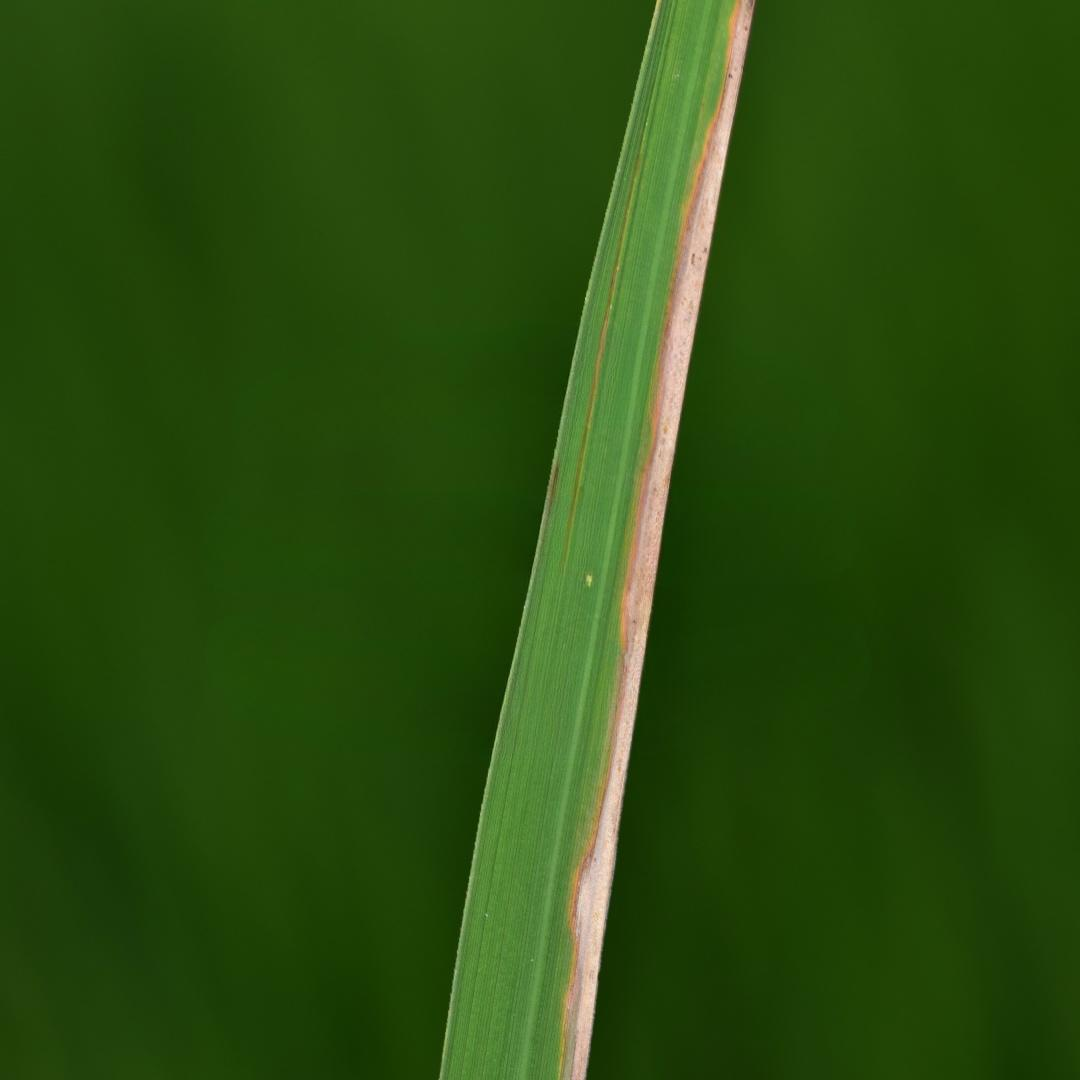BLB: (555, 0, 755, 1079)
LEAF: (440, 0, 756, 1079)
